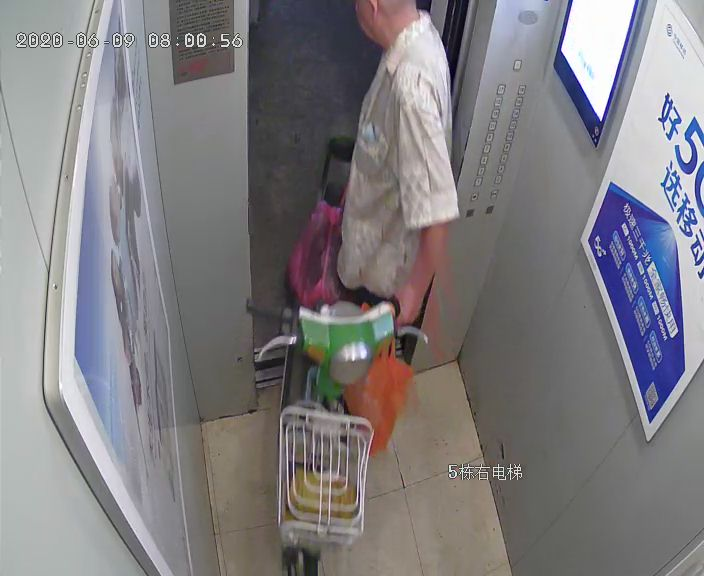Electric-bicycle: (256, 131, 422, 574)
